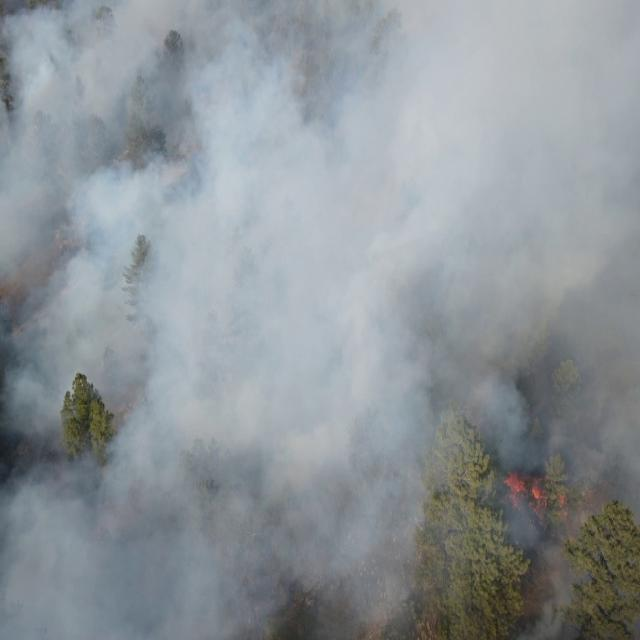fire: (504, 467, 548, 522), (558, 494, 570, 514)
smoke: (0, 4, 640, 640)
